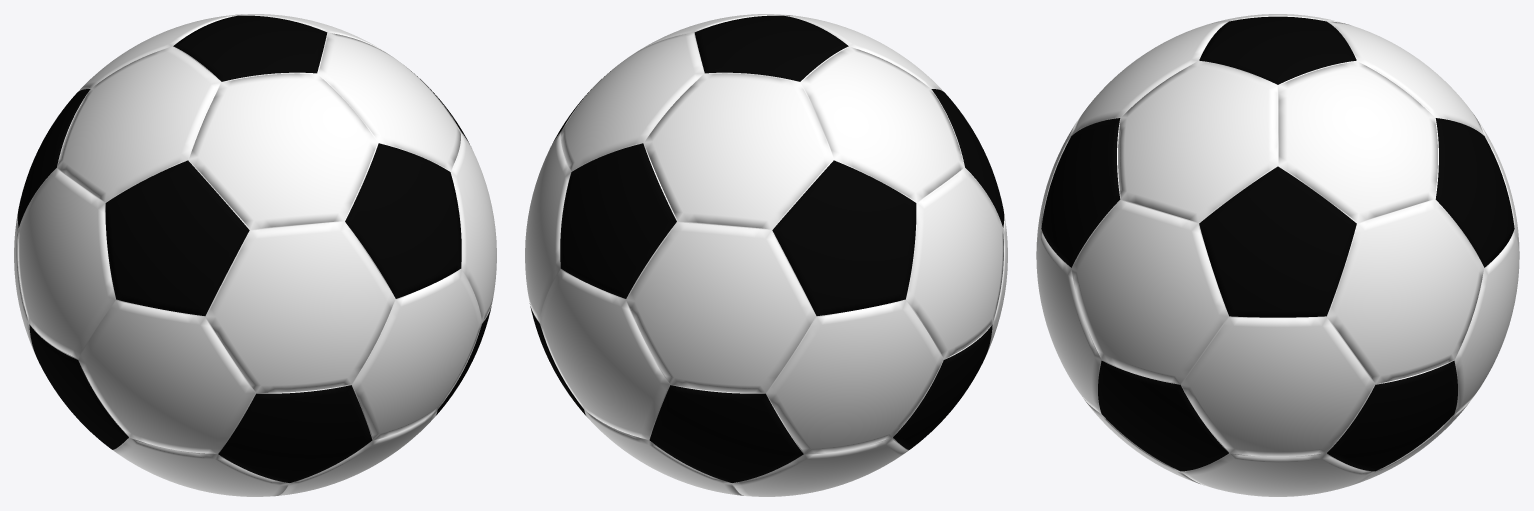
The model's file is palla.obj.
3 renders of one model, left to right at view 1: azimuth 30°, elevation 25°; view 2: azimuth 150°, elevation 25°; view 3: azimuth 270°, elevation 25°, orthographic.
Visible parts, largest first — view 1: Icosphere; view 2: Icosphere; view 3: Icosphere.
Boxes of the visible parts, <box> form: Icosphere: <box>14,14,496,496</box>; Icosphere: <box>525,14,1007,496</box>; Icosphere: <box>1036,14,1519,496</box>.
Size of the model in its own units: 0.5866 by 0.5868 by 0.5866.
2 materials, 2 textured.
